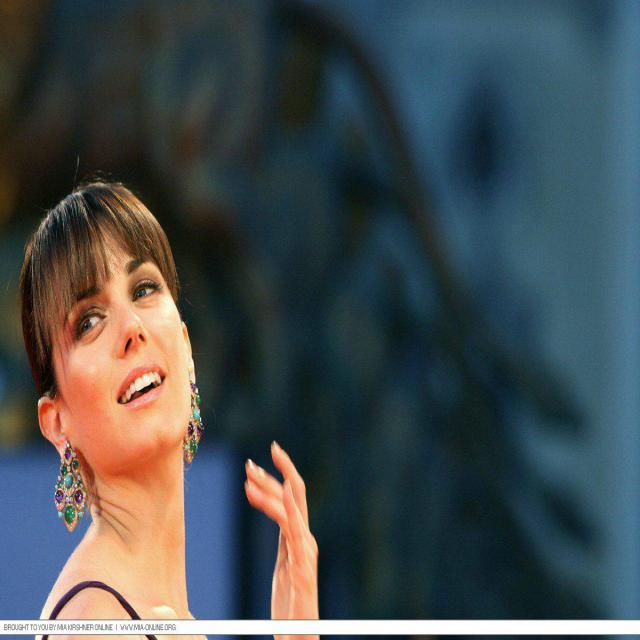no-earmuff: (29, 379, 95, 479), (175, 314, 209, 404)
